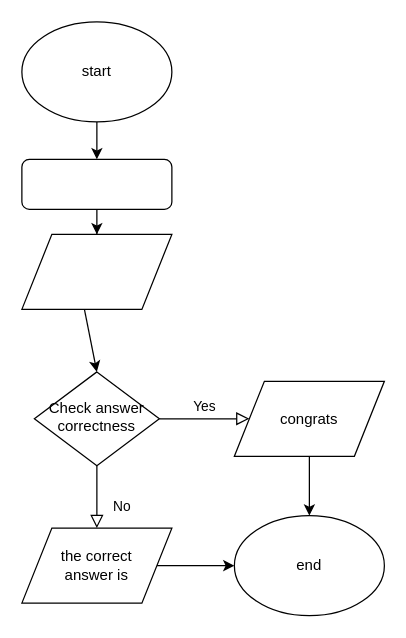
Some shapes in this 406 by 638 pixel diagram are drawn without their labels. The box of each missing label's shape, as (x1, y1, x2, y2) in pixels:
Ask for answer: (21, 233, 172, 309)
Generate 2 random numbers: (21, 158, 172, 209)
